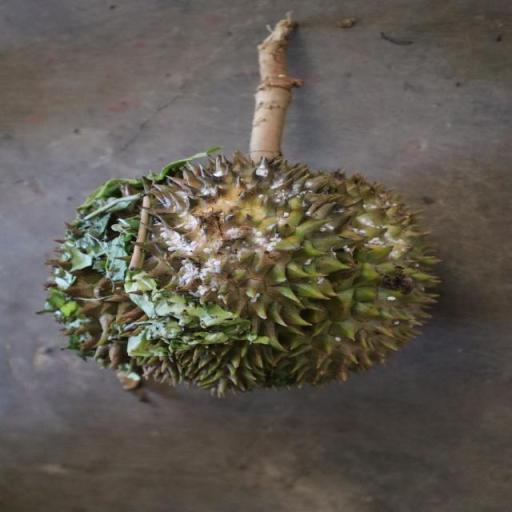mold: (0, 0, 499, 458)
